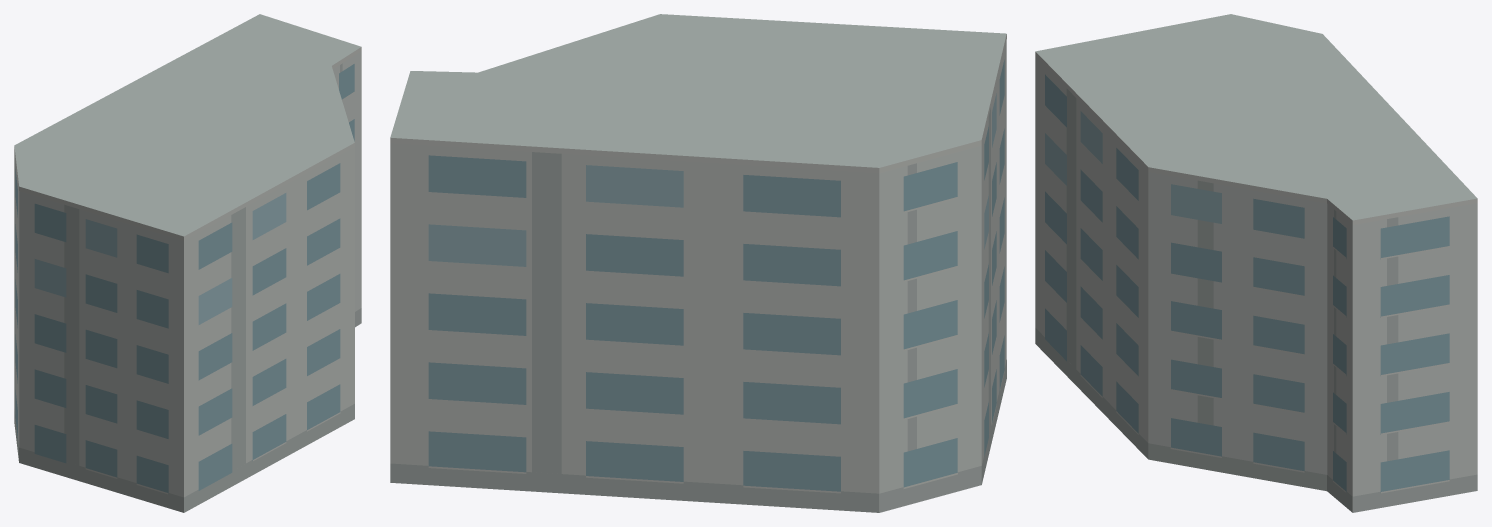
The model's file is survey-upis-32580592.glb.
The picture shows the model from 3 angles, left to right: view 1: azimuth 30°, elevation 25°; view 2: azimuth 150°, elevation 25°; view 3: azimuth 270°, elevation 25°; orthographic projection. The views are drawn at different scales.
Visible parts, largest first — view 1: survey-upis-32580592.tmp; view 2: survey-upis-32580592.tmp; view 3: survey-upis-32580592.tmp.
Boxes of the visible parts, x1=… form: survey-upis-32580592.tmp: x1=14, y1=14, x2=361, y2=512; survey-upis-32580592.tmp: x1=390, y1=14, x2=1006, y2=512; survey-upis-32580592.tmp: x1=1035, y1=14, x2=1477, y2=512.
Bounding box in the file's own units: 23.11 × 15.25 × 20.92.
